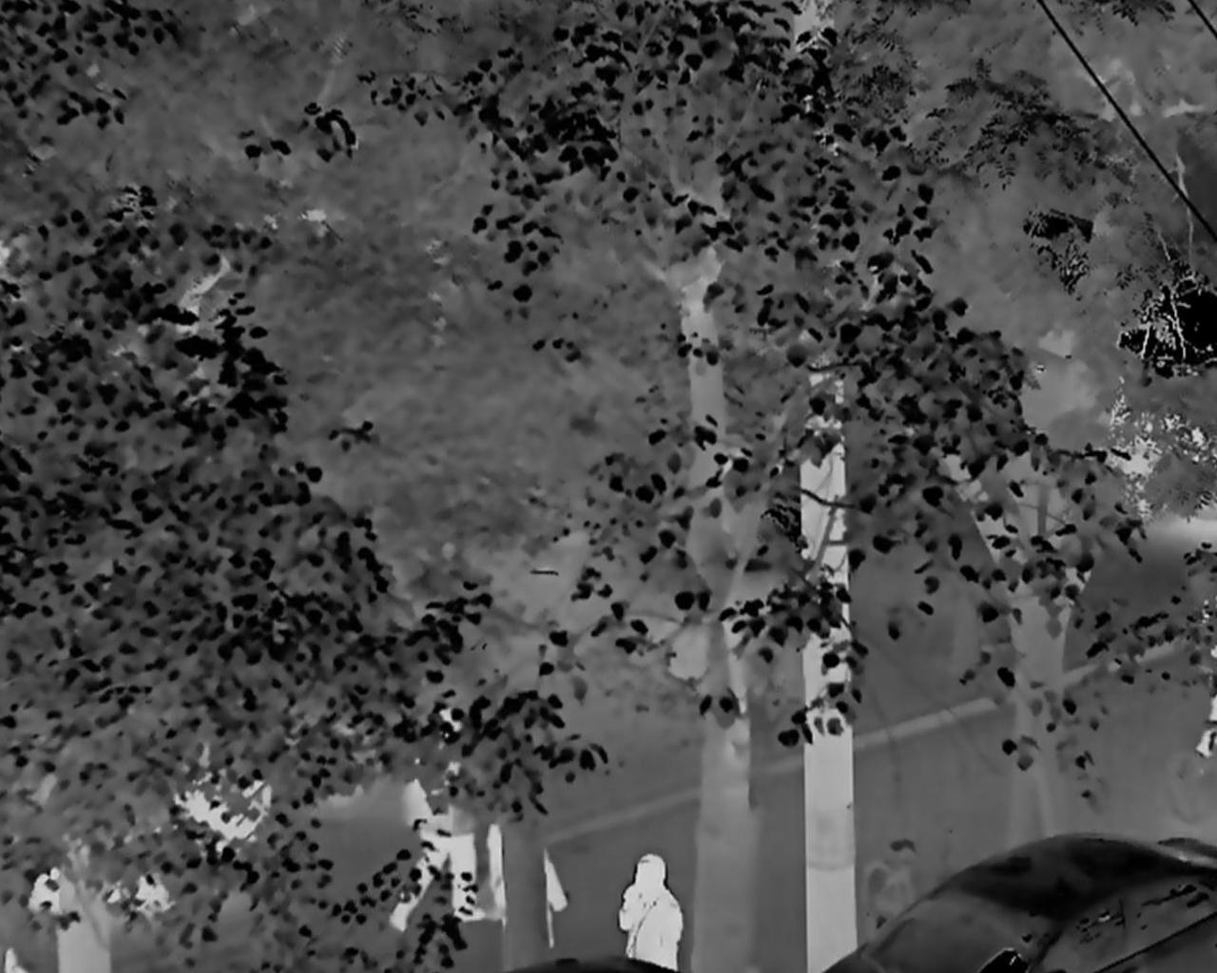person: (407, 709, 487, 935), (616, 855, 686, 973)
